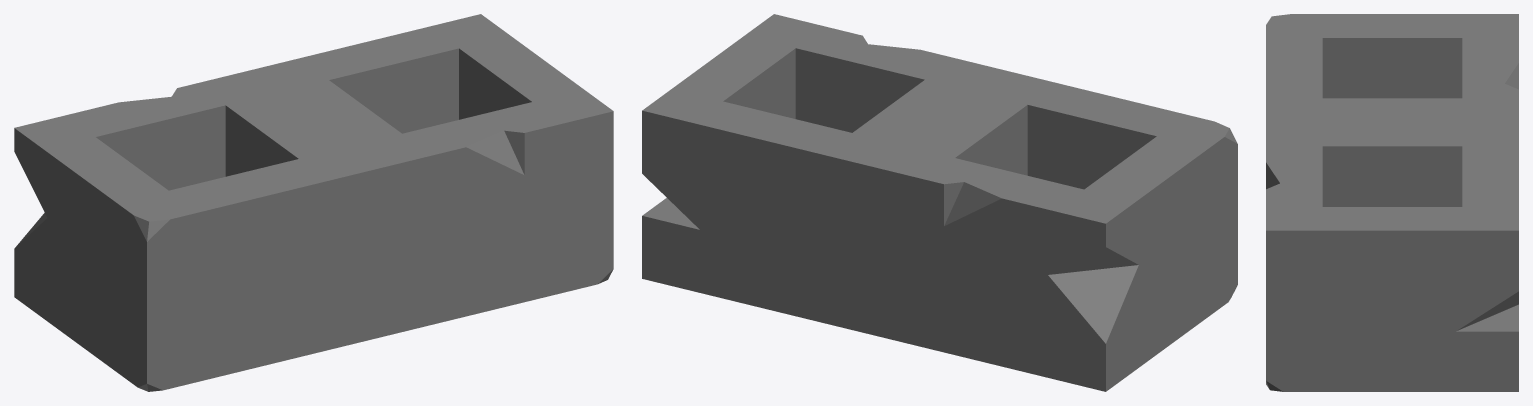
The model's file is model_brick.fbx.
3 renders of one model, left to right at view 1: azimuth 30°, elevation 25°; view 2: azimuth 150°, elevation 25°; view 3: azimuth 270°, elevation 25°, orthographic. The views are drawn at different scales.
Visible parts, largest first — view 1: model_brick; view 2: model_brick; view 3: model_brick.
Boxes of the visible parts, x1,y1,x2,y2 form: model_brick: (14,14,613,391); model_brick: (642,14,1237,391); model_brick: (1266,14,1518,391).
Size of the model in its own units: 95.26 by 33.02 by 46.95.
Materials: 1 (1 with a texture image).
